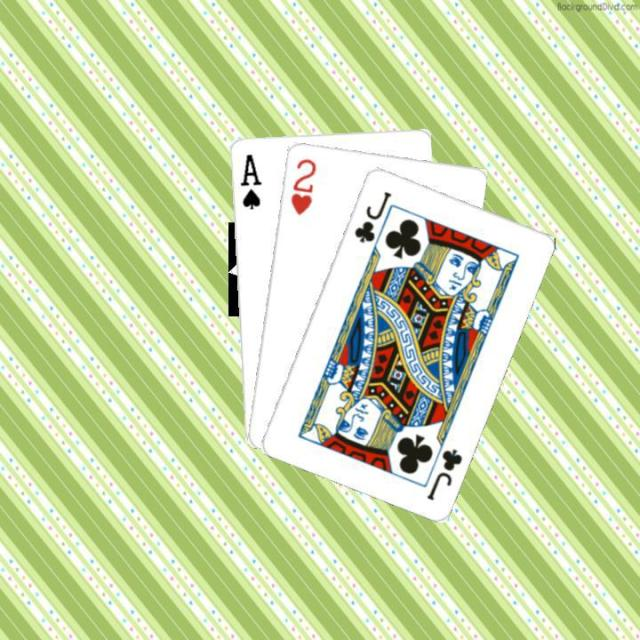2H: (286, 154, 318, 217)
AS: (236, 149, 263, 211)
JC: (349, 187, 393, 244), (422, 444, 464, 502)
